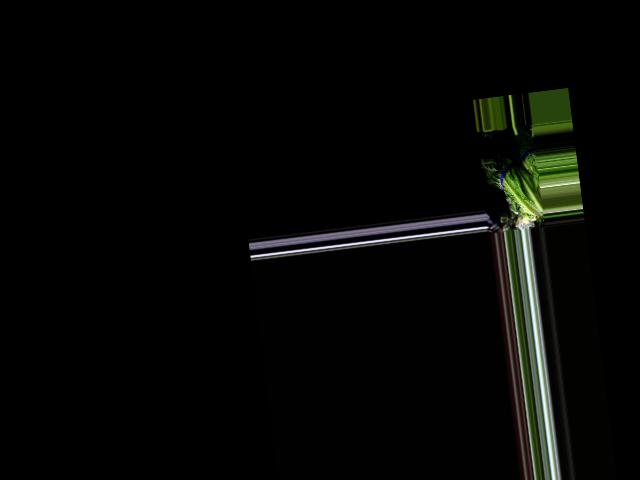lettuce: (483, 148, 543, 218)
